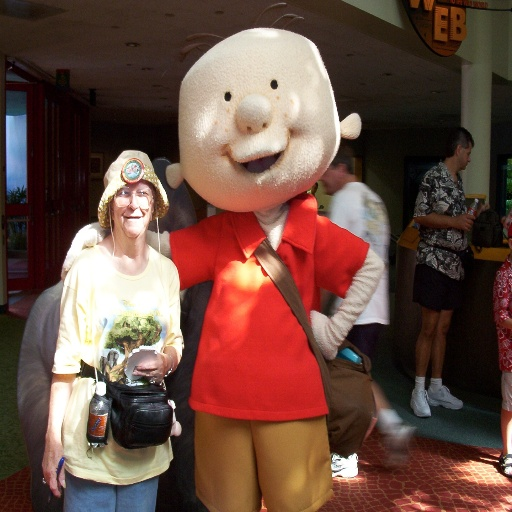hand: (60, 221, 112, 281), (28, 425, 58, 500), (310, 309, 338, 360), (132, 351, 170, 384), (453, 212, 474, 231), (474, 201, 490, 216)
